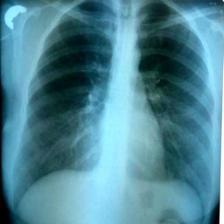tuberculosis: (11, 1, 215, 224)
